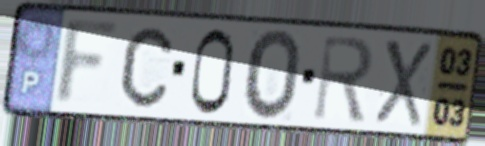0: (188, 25, 238, 117)
C: (119, 23, 175, 110)
F: (51, 16, 126, 109)
O: (242, 27, 305, 124)
R: (311, 32, 377, 125)
X: (372, 36, 434, 130)
